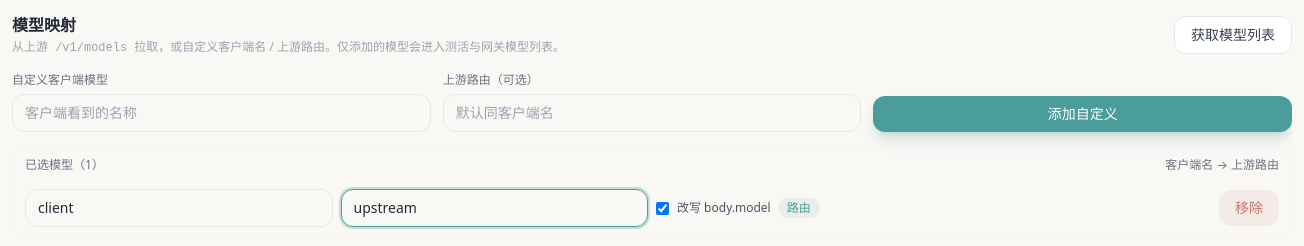
ChannelModelEditor stable editable rows › keeps focus while typing in 上游模型
In the 2nd field with placeholder "上游模型": (494, 208) [340,189,648,227], type "-xyz"
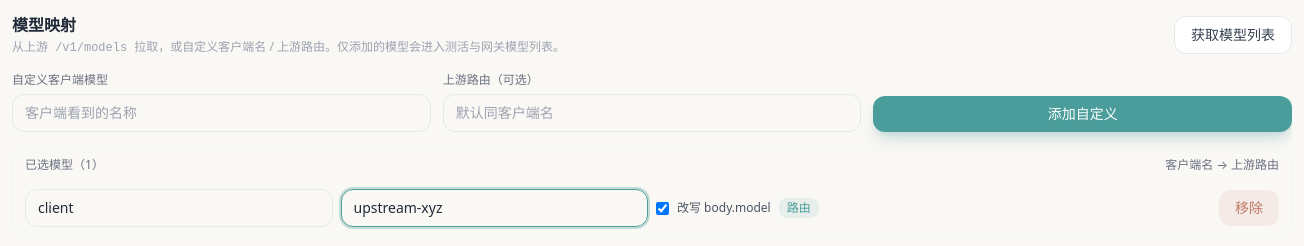
Check: the 2nd field with placeholder "上游模型" holds "upstream-xyz", box [340,189,648,227]
